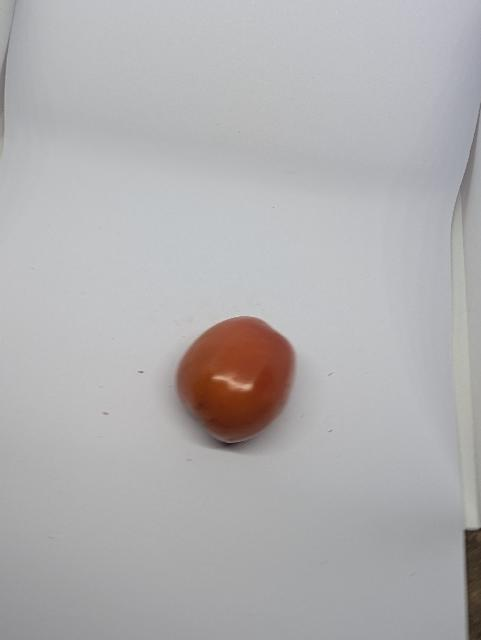red: (159, 310, 307, 451)
